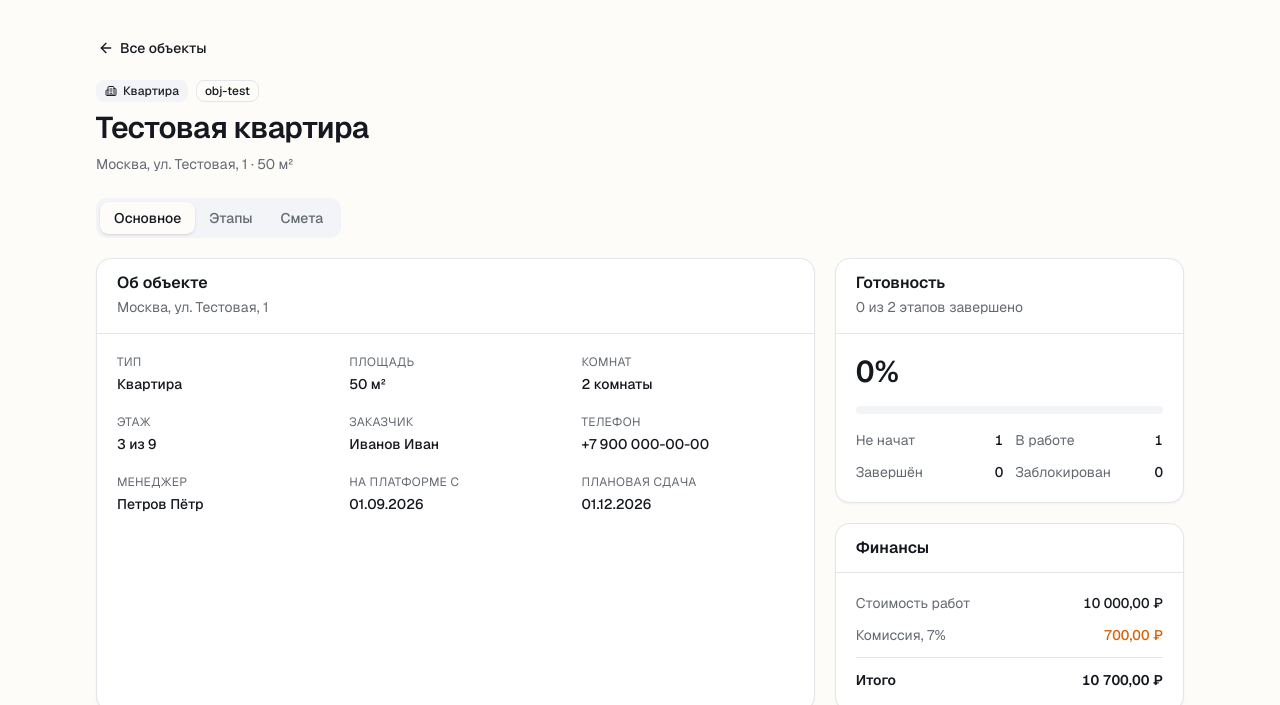
Test case: ObjectPassportView · смета › удаляет позицию из сметы
The width and height of the screenshot is (1280, 705).
Click the tab "Смета": (302, 218) [266,202,337,234]
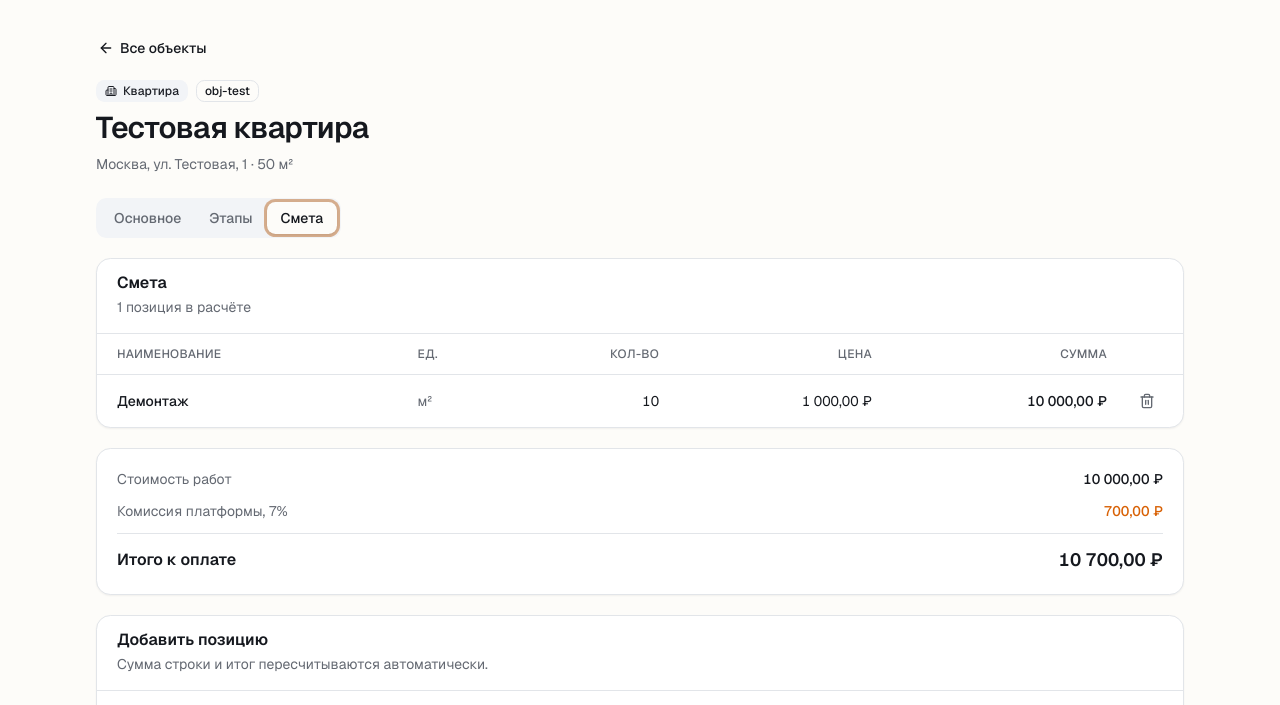
Click the button named "Удалить позицию": (1147, 400) [1131,384,1163,416]
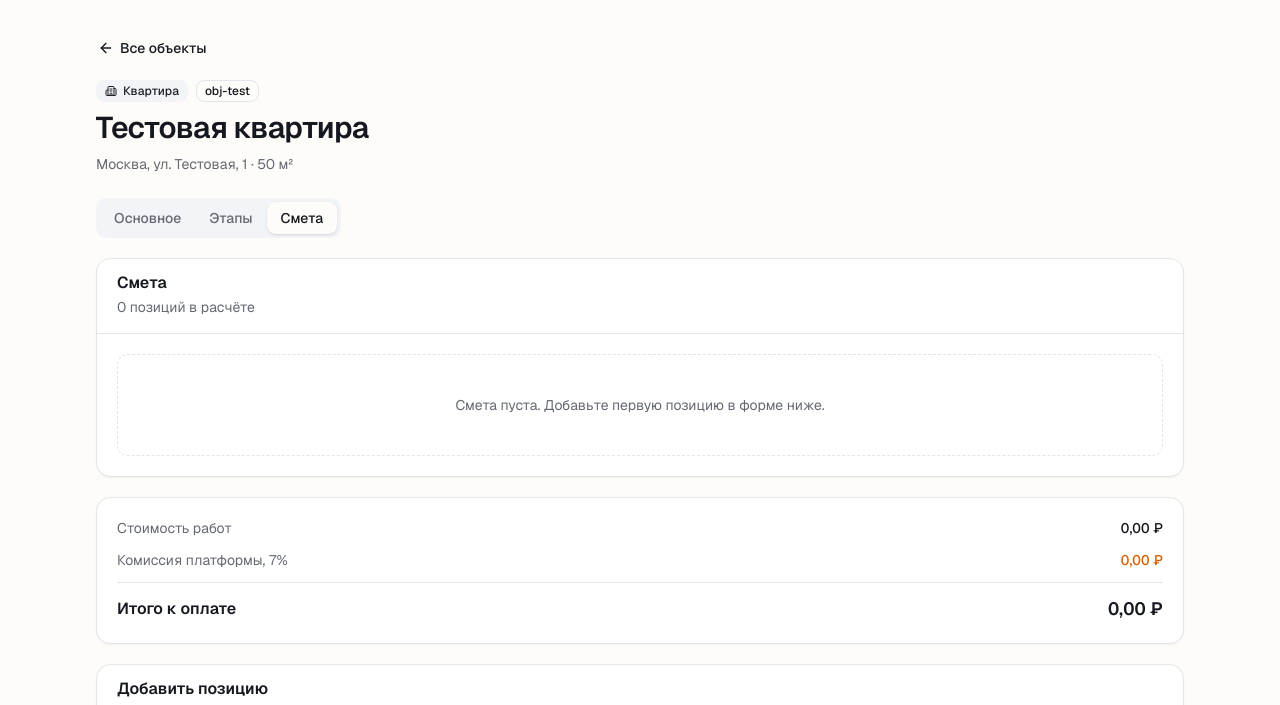
expect the text with test id "estimate-total" shows "0,00": met, box [1108,597,1163,620]
expect no rows with test id "estimate-row" are shown: met
